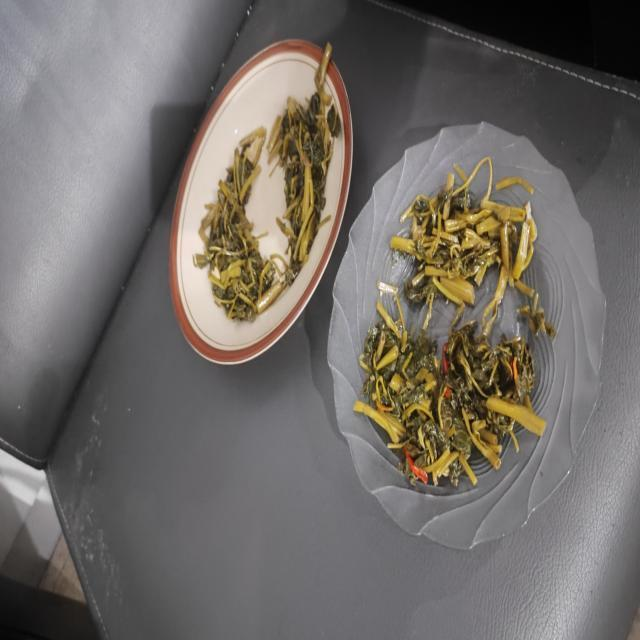tumis_kangkung: (354, 300, 545, 486), (390, 158, 538, 332), (194, 133, 277, 320), (272, 89, 339, 265)
